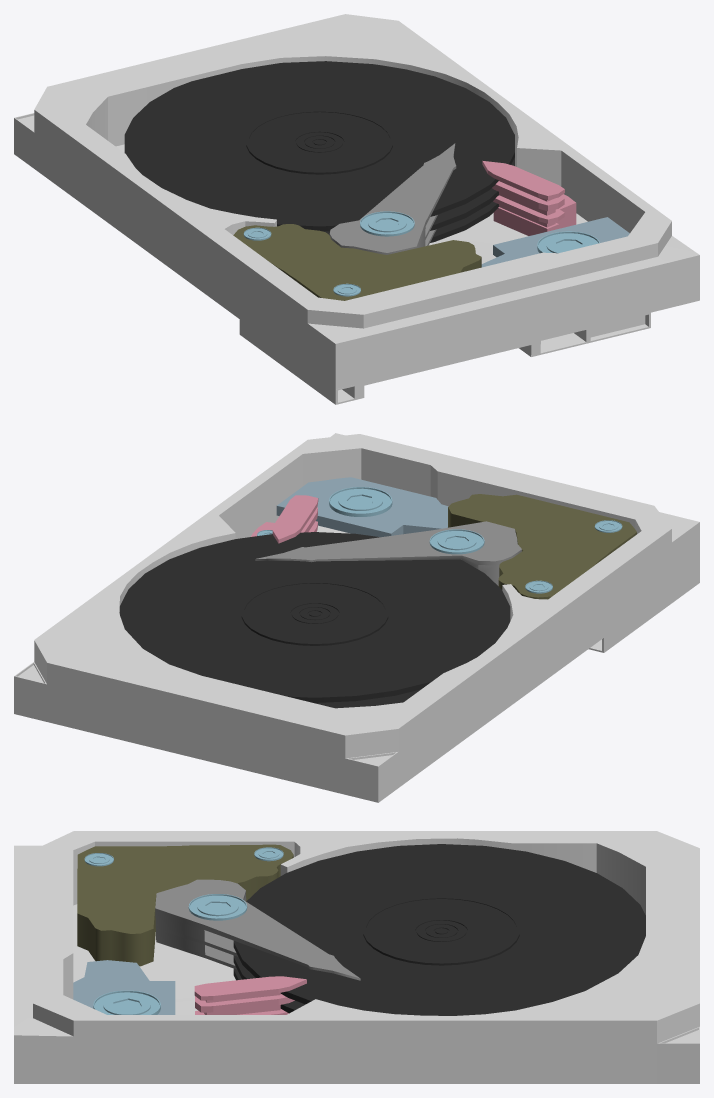
The model's file is 3D_OBJ.HDD3.FBX.
3 renders of one model, top to bottom at view 1: azimuth 30°, elevation 25°; view 2: azimuth 150°, elevation 25°; view 3: azimuth 270°, elevation 25°, orthographic. The views are drawn at different scales.
Parts seen in each view (by area): view 1: HDD; view 2: HDD; view 3: HDD.
Part boxes in pixels (x1,y1,x2,y2): HDD: [14, 14, 699, 404]; HDD: [14, 433, 699, 802]; HDD: [14, 831, 699, 1083].
Bounding box in the file's own units: 10.71 × 2.14 × 16.37.
